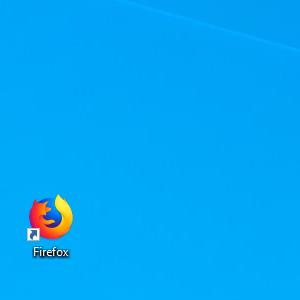firefox: (26, 193, 74, 242)
